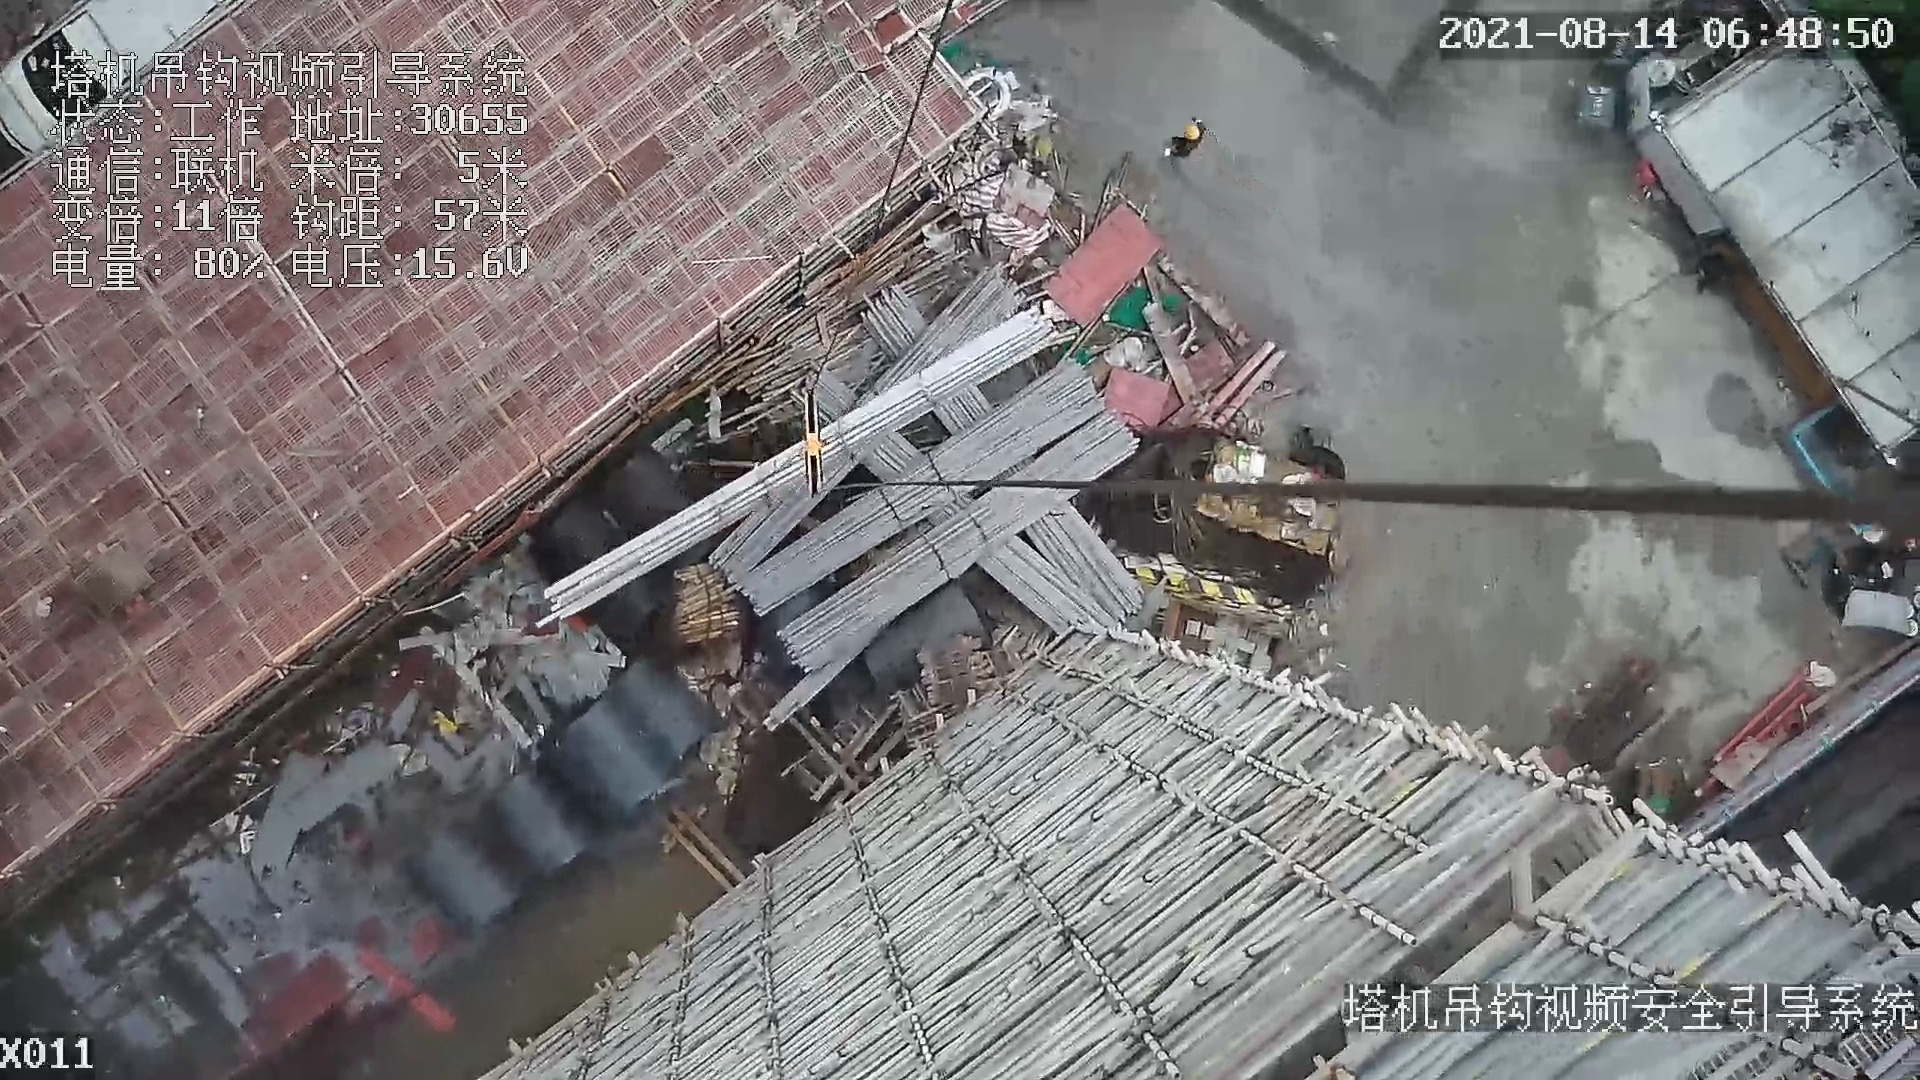helmet: (1182, 123, 1200, 138)
hook: (795, 387, 836, 501)
person: (1164, 122, 1213, 164)
